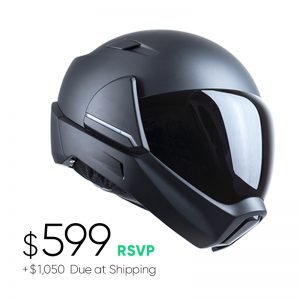with_helmet: (48, 25, 277, 253)
